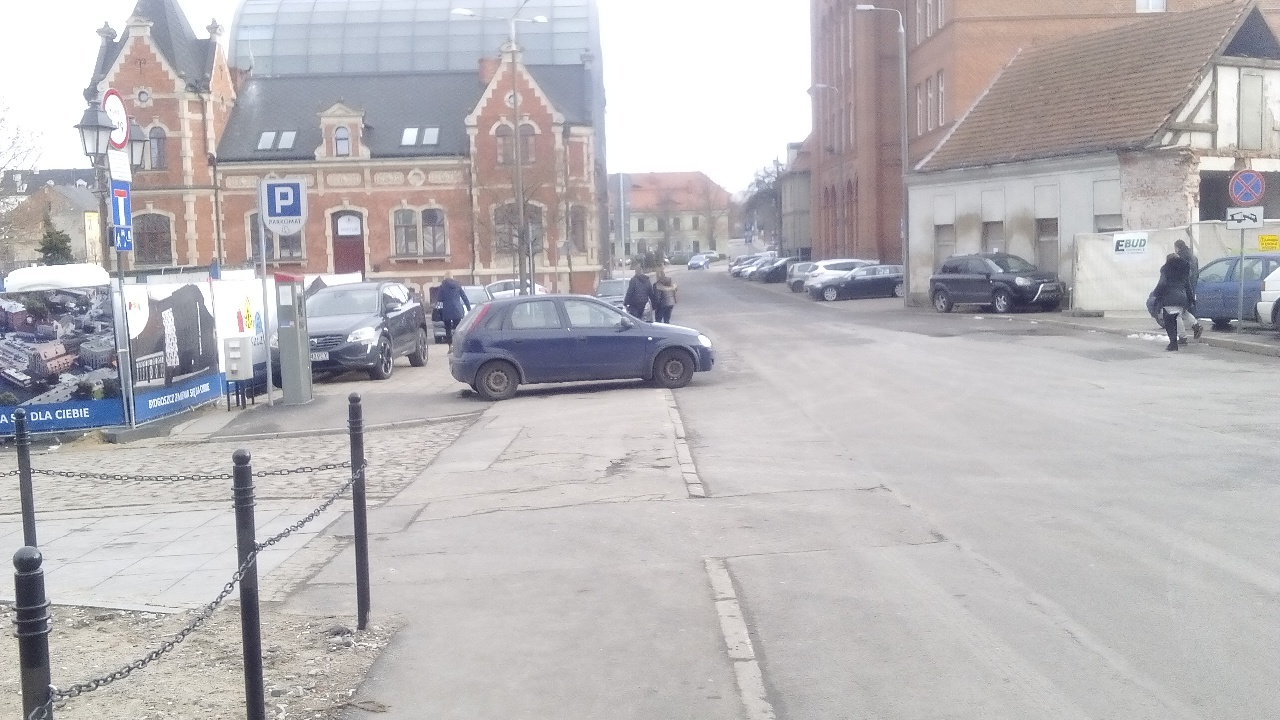B36: (1229, 169, 1265, 206)
D18: (267, 183, 302, 217)
D40: (116, 226, 133, 249)
D4a: (110, 180, 133, 226)
